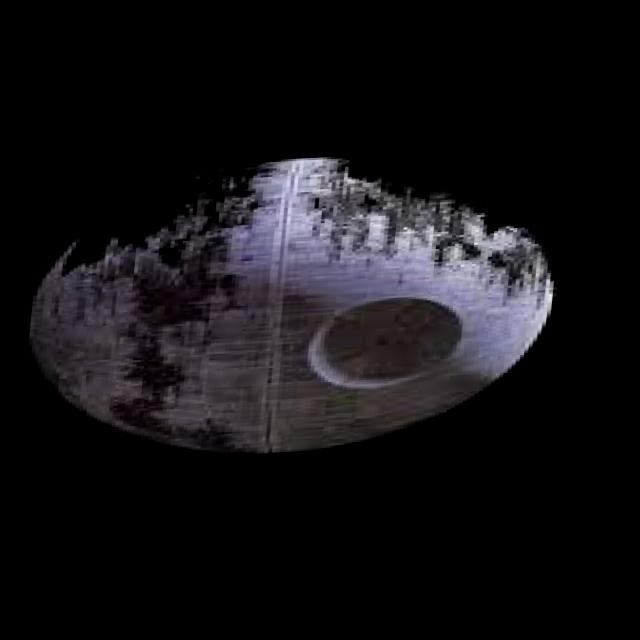deathStar: (20, 147, 581, 471)
